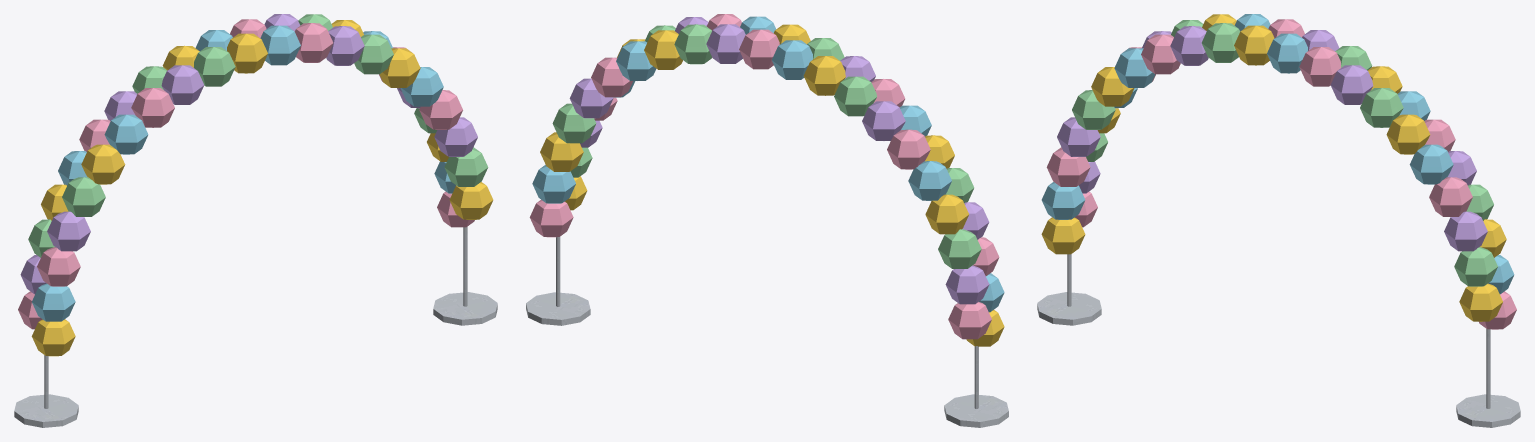
3 renders of one model, left to right at view 1: azimuth 30°, elevation 25°; view 2: azimuth 150°, elevation 25°; view 3: azimuth 330°, elevation 25°, orthographic.
Visible parts, largest first — view 1: Decor_balloon_arch; view 2: Decor_balloon_arch; view 3: Decor_balloon_arch.
Boxes of the visible parts, x1=… form: Decor_balloon_arch: x1=14, y1=14, x2=497, y2=427; Decor_balloon_arch: x1=526, y1=14, x2=1008, y2=427; Decor_balloon_arch: x1=1037, y1=14, x2=1520, y2=427.
Bounding box in the file's own units: 4.97 × 3.4 × 0.64.
Materials: 6 (6 with a texture image).
